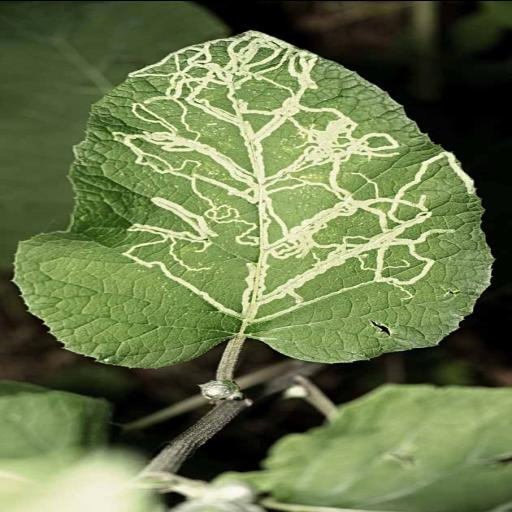disease_tomato: (14, 29, 494, 367)
